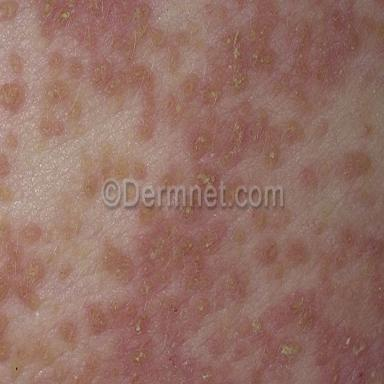Darier_s-Disease: (1, 1, 383, 382)
